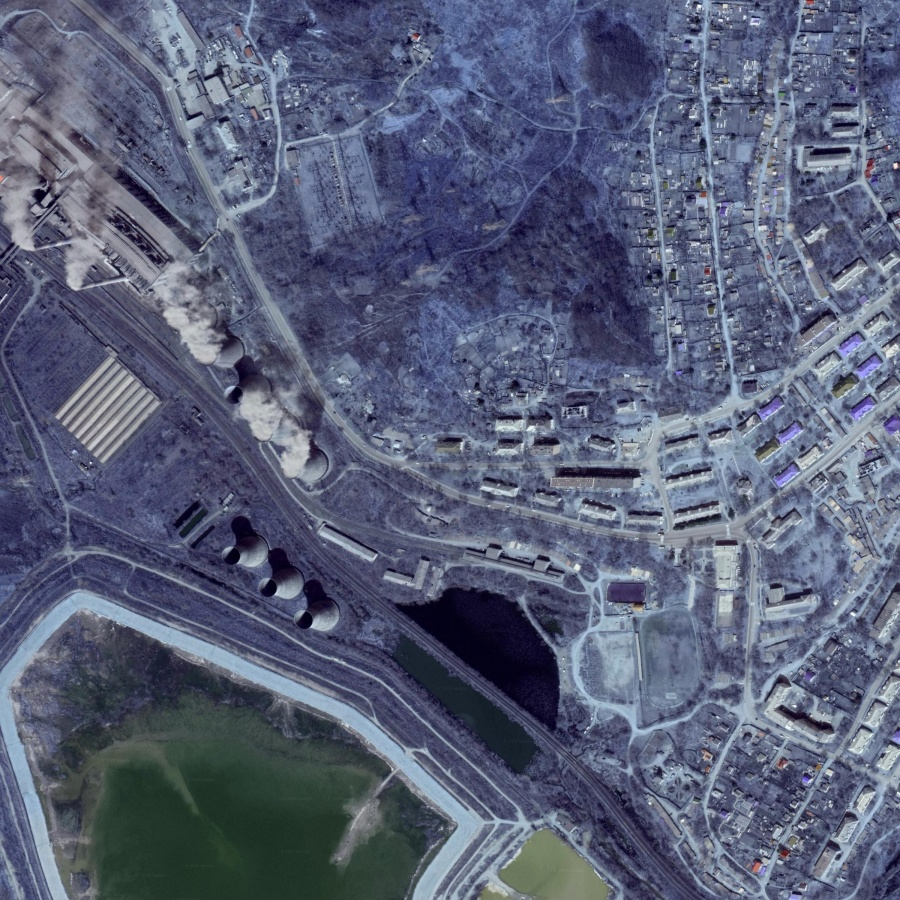PowerPlant: (160, 271, 374, 644)
